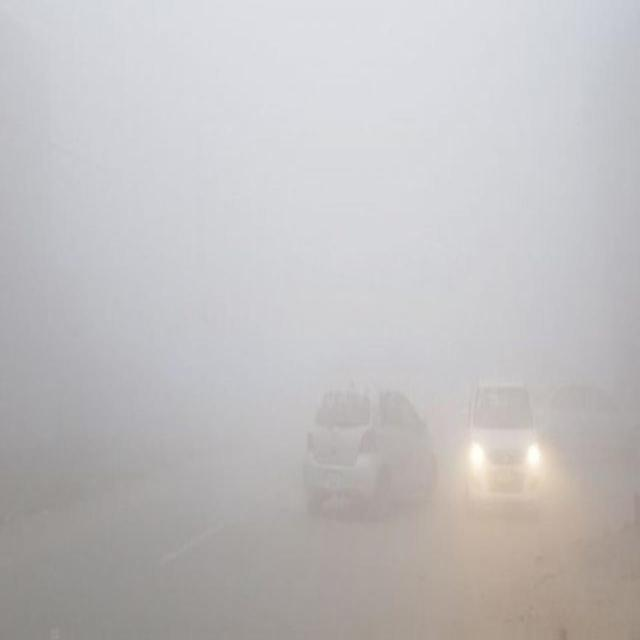Car: (304, 378, 442, 508), (462, 376, 543, 515)
